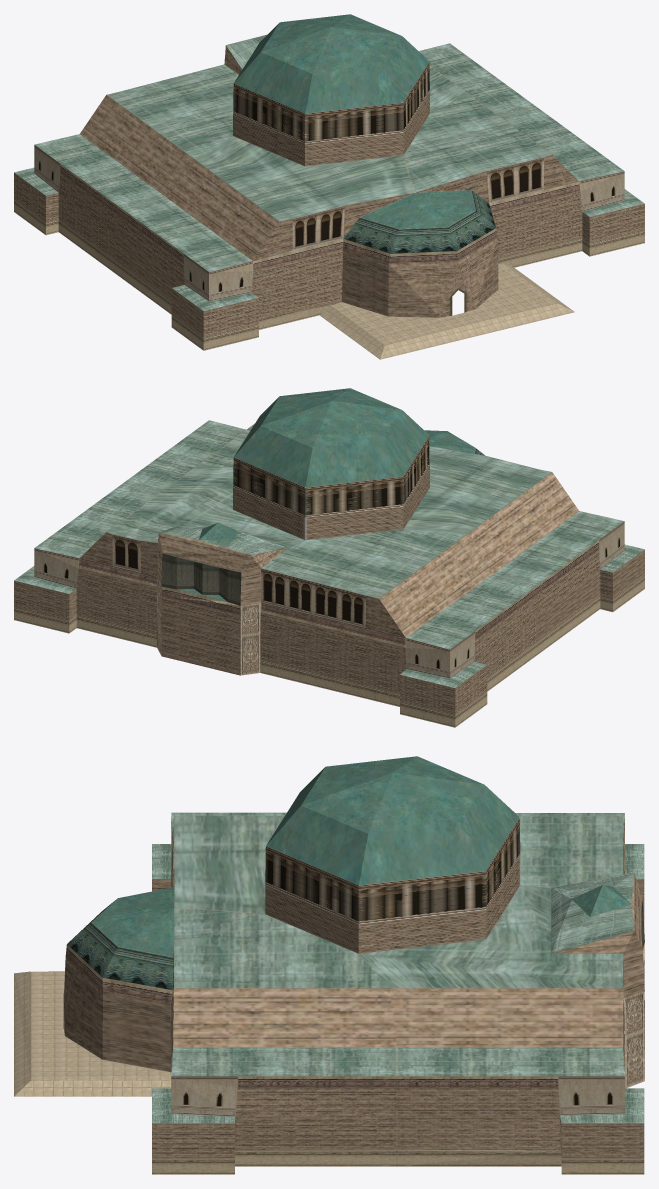
File: mun_nboo_hotel_s01_r0_mesh_l3.fbx
3 views of the same model, one above another, from view 1: azimuth 30°, elevation 25°; view 2: azimuth 150°, elevation 25°; view 3: azimuth 270°, elevation 25° (orthographic). The views are drawn at different scales.
Visible parts, largest first — view 1: mesh_node; view 2: mesh_node; view 3: mesh_node.
Part boxes in pixels (box(x1,y1,x2,y2)): mesh_node: box(14, 14, 644, 359); mesh_node: box(14, 388, 644, 727); mesh_node: box(14, 756, 644, 1174).
Size of the model in its own units: 59.56 by 26.07 by 56.85.
